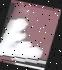dent: (0, 2, 62, 68)
